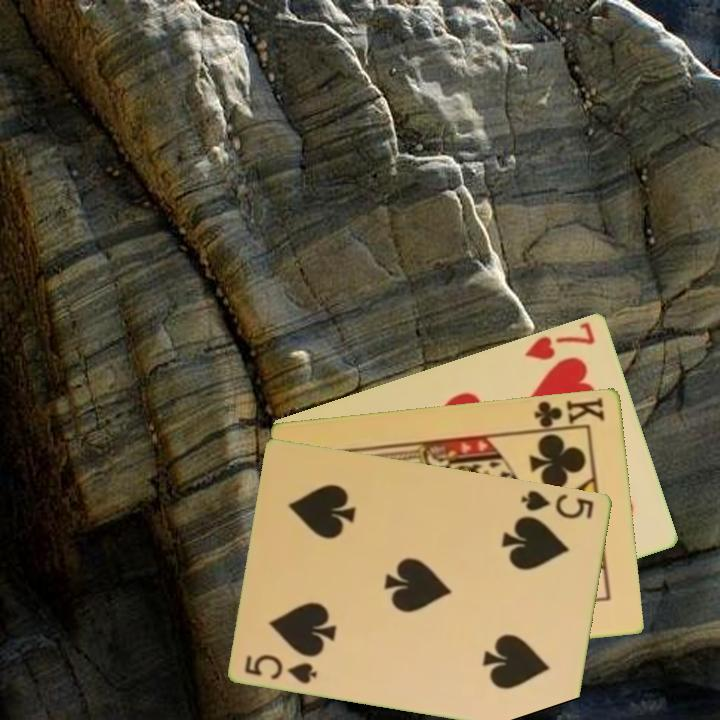5s: (241, 650, 321, 687), (518, 486, 597, 522)
7h: (521, 318, 598, 363)
Kc: (529, 393, 608, 433)
